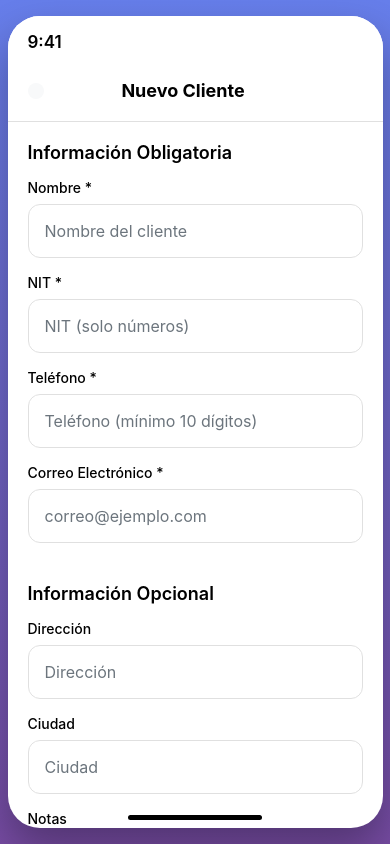
Test case: NewClientScreen › filters non-numeric characters from NIT field
Type "123abc456" into the field with placeholder "NIT (solo números)" at point(195, 326), box [28,299,362,353]
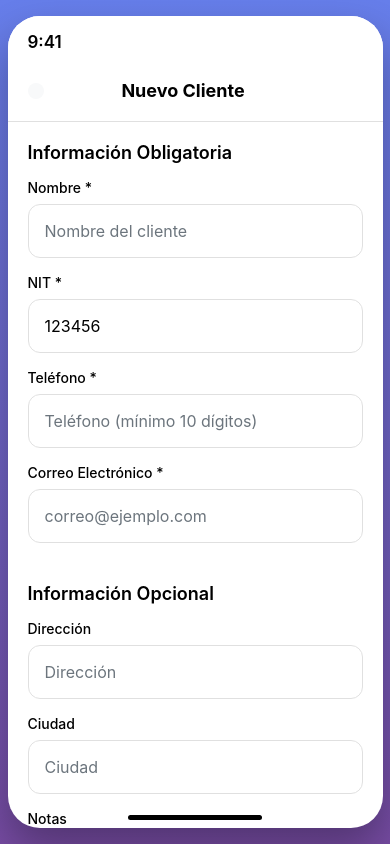
Result: the field with placeholder "NIT (solo números)" holds "123456" at [28,299,362,353]
